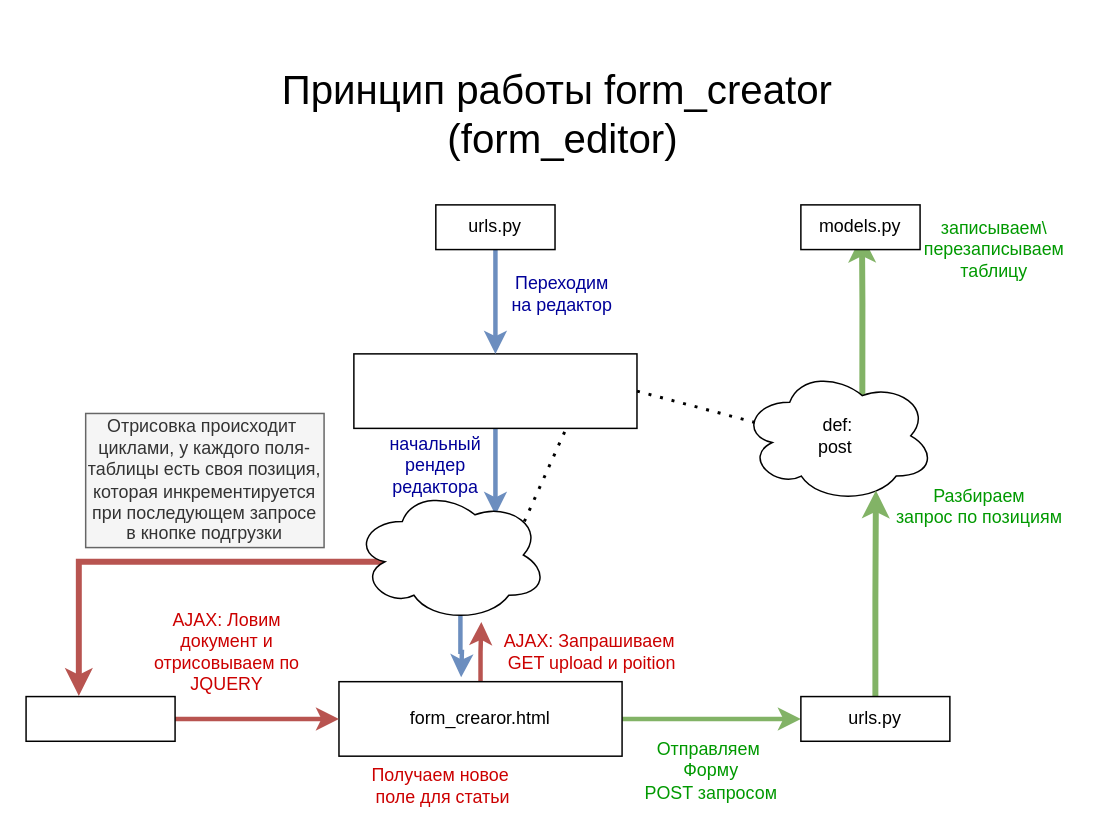
This 1110x840 diagram has some shape labels left out. The centre of each missing label's shape, as x and y in pixels:
"def: mediaform" goes at pixel 450 554.
"fields.html" goes at pixel 100 718.
"form_crearor.py" goes at pixel 494 390.
